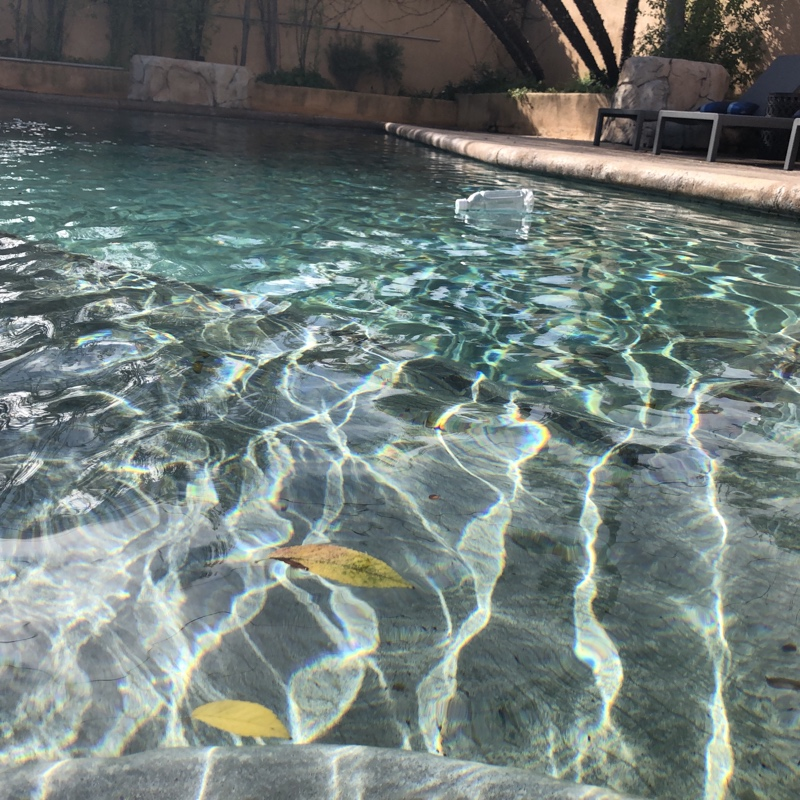Plastic Bottle: (453, 183, 537, 220)
